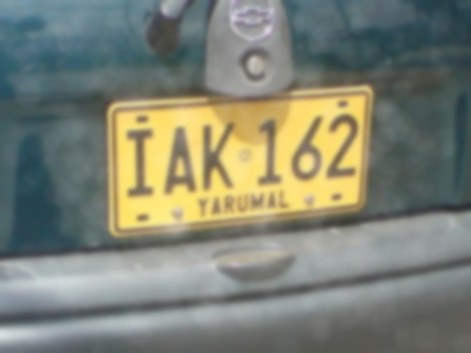placas: (106, 85, 374, 240)
